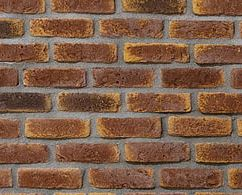brick: (167, 113, 232, 139), (123, 90, 194, 113), (16, 166, 85, 189), (86, 166, 155, 189), (24, 116, 91, 139), (95, 116, 162, 139), (167, 19, 234, 41), (53, 142, 120, 164), (122, 142, 192, 163), (97, 18, 163, 40), (158, 167, 225, 188), (29, 17, 95, 38), (52, 42, 119, 62), (123, 42, 190, 62), (160, 67, 224, 87), (22, 67, 88, 86), (91, 67, 153, 87), (1, 41, 51, 65), (1, 142, 51, 166), (58, 93, 120, 112), (1, 90, 54, 111), (192, 43, 242, 65), (194, 142, 242, 163), (197, 92, 242, 114), (121, 1, 189, 15), (50, 1, 116, 13), (193, 1, 240, 15), (2, 1, 47, 13), (1, 18, 25, 39), (1, 118, 22, 138), (1, 68, 19, 87), (227, 167, 242, 188), (1, 167, 15, 188), (229, 67, 242, 87)
